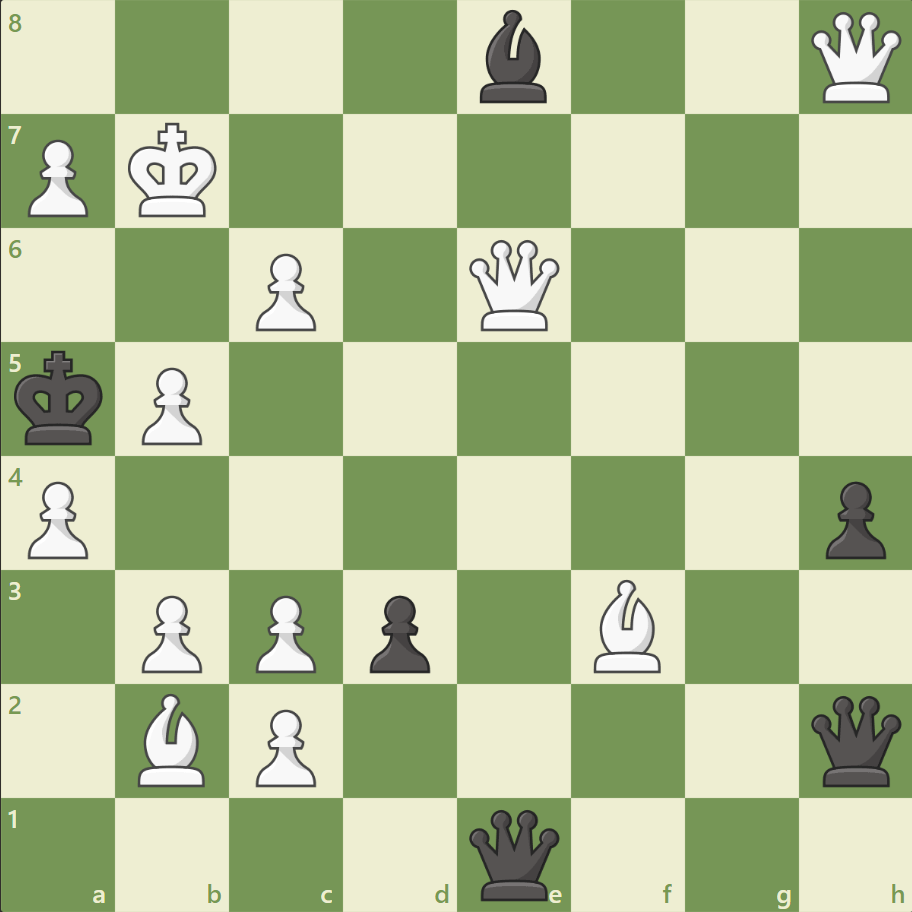B: (131, 687, 215, 790), (585, 574, 669, 676)
K: (124, 117, 224, 225)
P: (20, 132, 95, 223), (247, 246, 322, 337), (133, 359, 208, 450), (20, 473, 95, 564), (133, 586, 208, 677), (247, 586, 322, 677), (247, 700, 322, 791)
Q: (805, 9, 904, 108), (464, 236, 563, 335)
b: (471, 6, 555, 109)
k: (11, 344, 111, 452)
p: (815, 473, 889, 564), (361, 586, 435, 677)
q: (805, 690, 904, 789), (464, 804, 563, 903)
